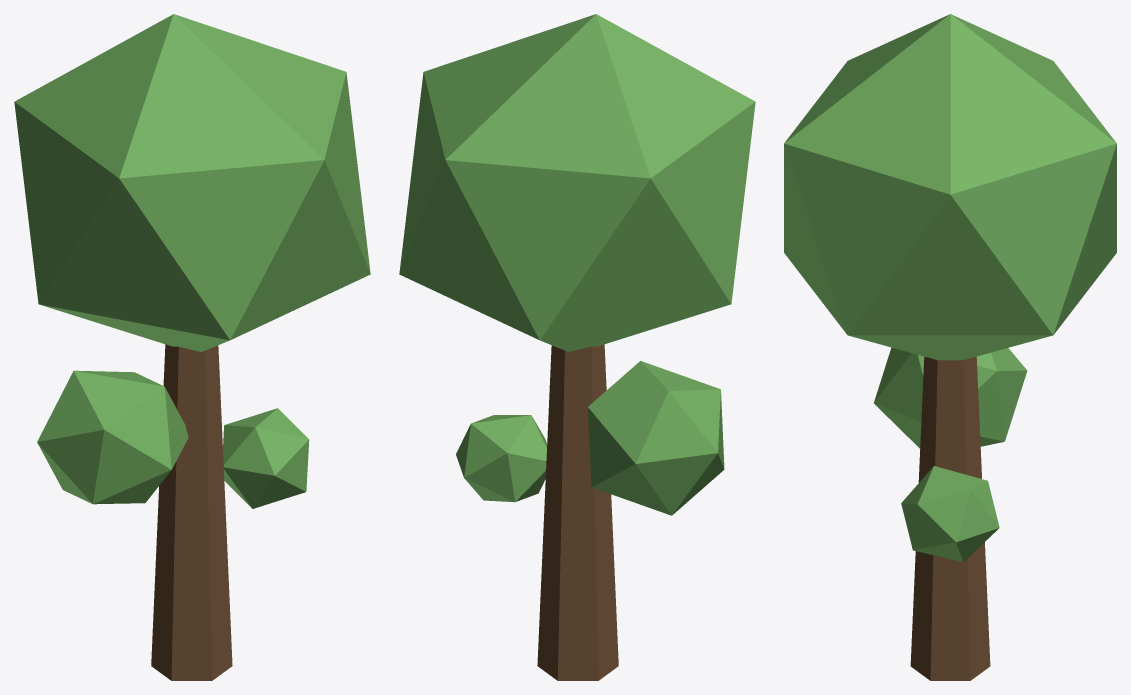
The model's file is Environment_Objects_Tree_04.fbx.
The picture shows the model from 3 angles, left to right: view 1: azimuth 30°, elevation 25°; view 2: azimuth 150°, elevation 25°; view 3: azimuth 270°, elevation 25°; orthographic projection.
Parts seen in each view (by area): view 1: Environment_Objects_Tree_04; view 2: Environment_Objects_Tree_04; view 3: Environment_Objects_Tree_04.
Part boxes in pixels (x1,y1,x2,y2): Environment_Objects_Tree_04: [14, 14, 370, 680]; Environment_Objects_Tree_04: [399, 14, 755, 680]; Environment_Objects_Tree_04: [784, 14, 1116, 680].
Size of the model in its own units: 178 by 363 by 170.
